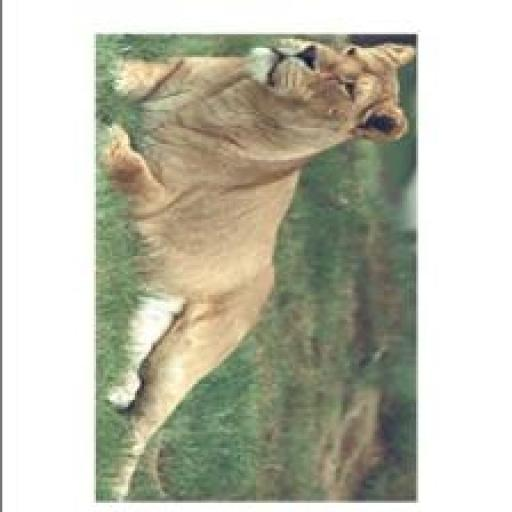lion: (64, 27, 435, 510)
